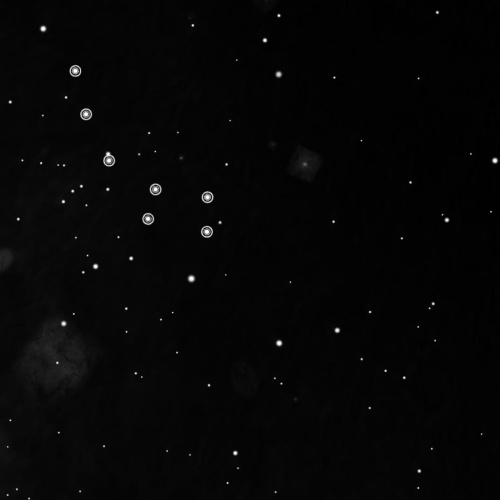ursa_minor: (65, 59, 220, 242)
